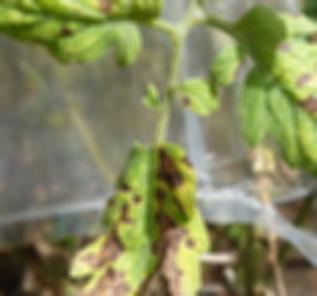Tomato Septoria leaf spot: (54, 135, 209, 296), (213, 2, 317, 199), (0, 0, 171, 69)
